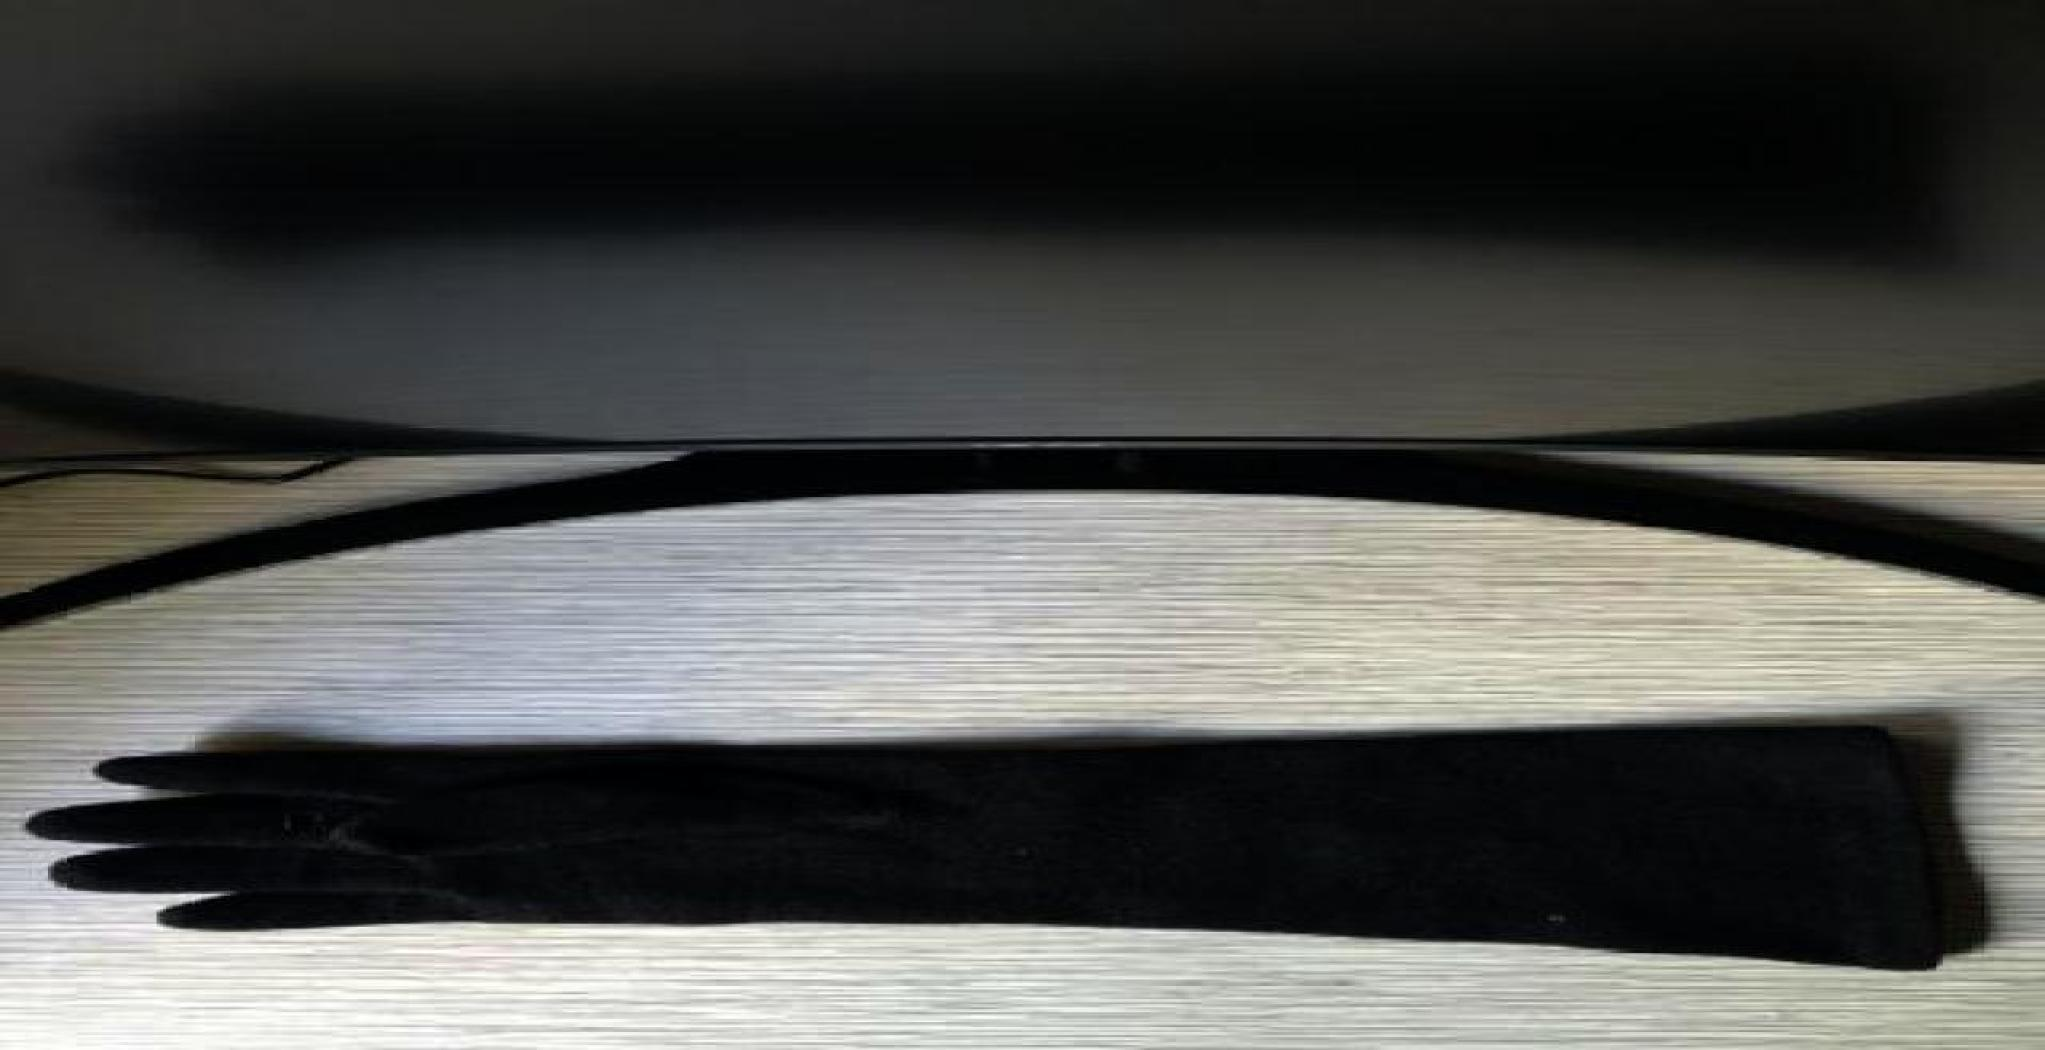gloved: (23, 719, 1953, 971)
